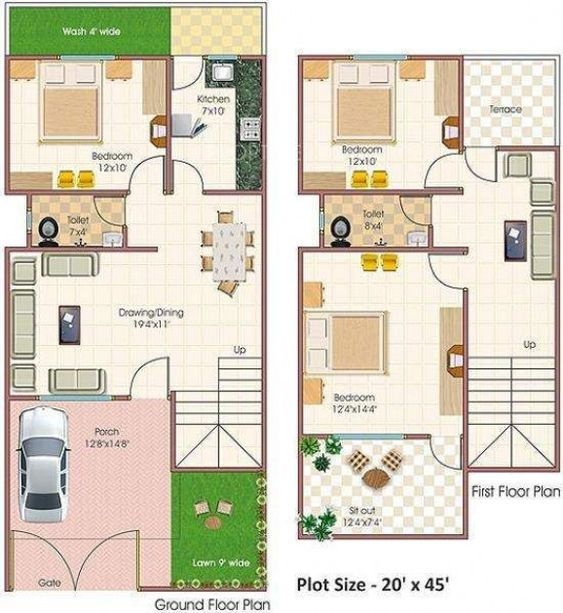wall: (262, 55, 268, 472), (297, 244, 304, 537), (556, 147, 562, 471), (4, 246, 9, 586), (463, 290, 469, 537), (297, 245, 469, 252), (298, 188, 461, 194), (297, 533, 467, 538), (297, 51, 303, 191), (4, 245, 158, 250), (138, 585, 264, 591), (166, 56, 171, 191), (3, 189, 127, 194), (168, 464, 263, 470), (4, 55, 8, 196), (459, 54, 464, 151), (170, 391, 176, 471), (496, 144, 558, 150), (298, 53, 350, 60), (410, 53, 462, 60), (204, 189, 264, 195), (118, 54, 168, 60), (4, 55, 57, 60), (403, 432, 431, 440), (7, 394, 38, 401), (428, 223, 434, 248), (113, 394, 132, 400)
